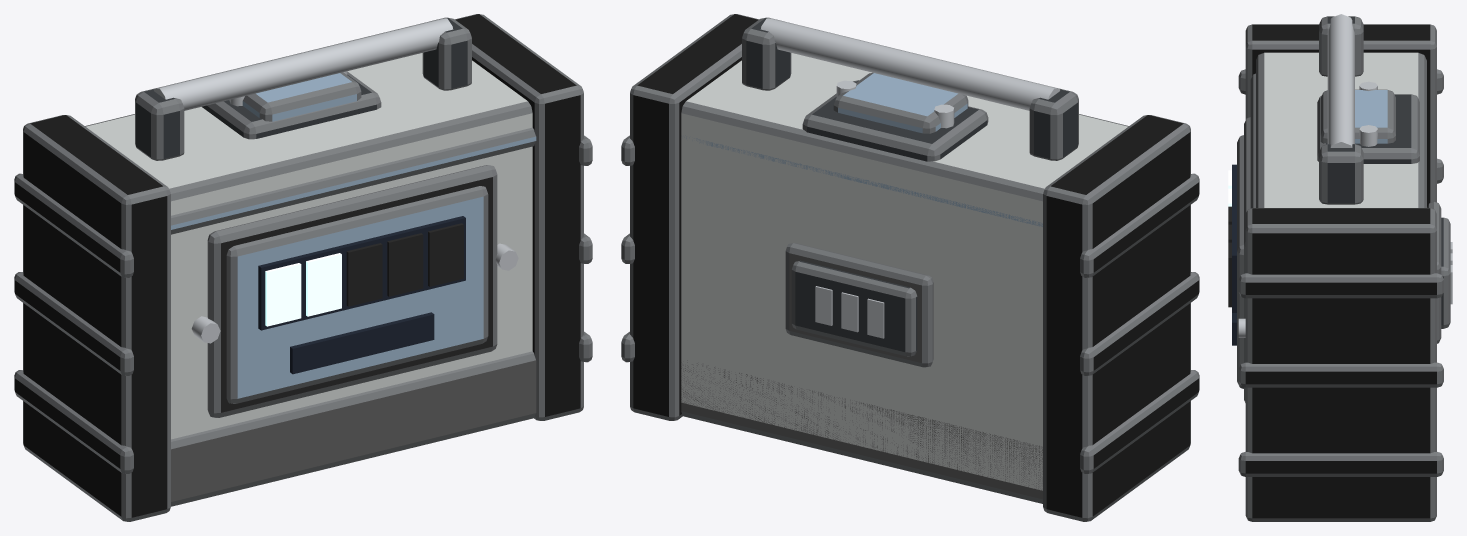
File: power_cell_compact.fbx
3 views of the same model, side by side, from view 1: azimuth 30°, elevation 25°; view 2: azimuth 150°, elevation 25°; view 3: azimuth 270°, elevation 25° (orthographic). The views are drawn at different scales.
Parts seen in each view (by area): view 1: Mesh_PowerCell_Compact_Shell, Mesh_PowerCell_Compact_Bumpers, Mesh_PowerCell_Compact_Face, Mesh_PowerCell_Compact_Handle, Mesh_PowerCell_Compact_Latch; view 2: Mesh_PowerCell_Compact_Shell, Mesh_PowerCell_Compact_Bumpers, Mesh_PowerCell_Compact_Handle, Mesh_PowerCell_Compact_Port, Mesh_PowerCell_Compact_Latch; view 3: Mesh_PowerCell_Compact_Bumpers, Mesh_PowerCell_Compact_Shell, Mesh_PowerCell_Compact_Handle, Mesh_PowerCell_Compact_Latch, Mesh_PowerCell_Compact_Face, Mesh_PowerCell_Compact_Port.
Part boxes in pixels (x1=…): Mesh_PowerCell_Compact_Shell: x1=85, y1=53, x2=536, y2=506; Mesh_PowerCell_Compact_Bumpers: x1=14, y1=14, x2=592, y2=521; Mesh_PowerCell_Compact_Face: x1=191, y1=165, x2=518, y2=417; Mesh_PowerCell_Compact_Handle: x1=135, y1=17, x2=471, y2=160; Mesh_PowerCell_Compact_Latch: x1=202, y1=71, x2=381, y2=139; Mesh_PowerCell_Compact_Shell: x1=681, y1=53, x2=1128, y2=503; Mesh_PowerCell_Compact_Bumpers: x1=621, y1=14, x2=1199, y2=521; Mesh_PowerCell_Compact_Handle: x1=742, y1=17, x2=1078, y2=160; Mesh_PowerCell_Compact_Port: x1=785, y1=243, x2=933, y2=367; Mesh_PowerCell_Compact_Latch: x1=802, y1=72, x2=988, y2=161; Mesh_PowerCell_Compact_Bumpers: x1=1238, y1=24, x2=1443, y2=521; Mesh_PowerCell_Compact_Shell: x1=1250, y1=52, x2=1426, y2=208; Mesh_PowerCell_Compact_Handle: x1=1319, y1=14, x2=1363, y2=204; Mesh_PowerCell_Compact_Latch: x1=1317, y1=81, x2=1419, y2=163; Mesh_PowerCell_Compact_Face: x1=1228, y1=117, x2=1250, y2=402; Mesh_PowerCell_Compact_Port: x1=1427, y1=201, x2=1452, y2=343.
Size of the model in its own units: 29 by 22.2 by 13.1.
